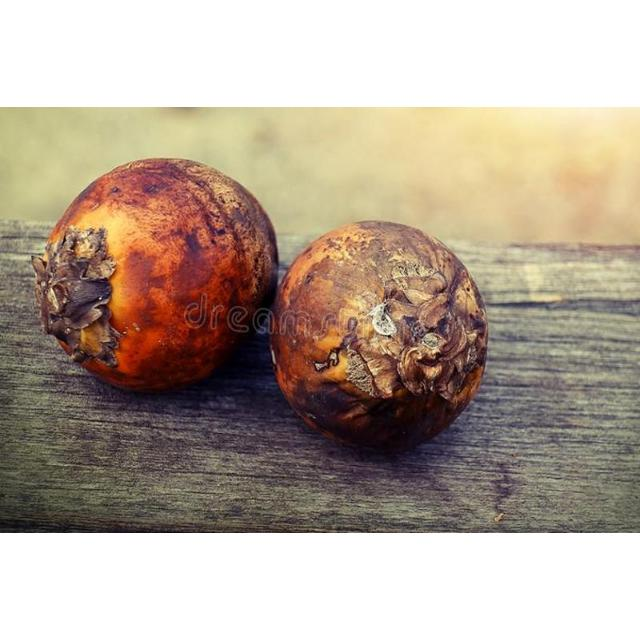damaged: (31, 159, 279, 394), (269, 221, 490, 452)
